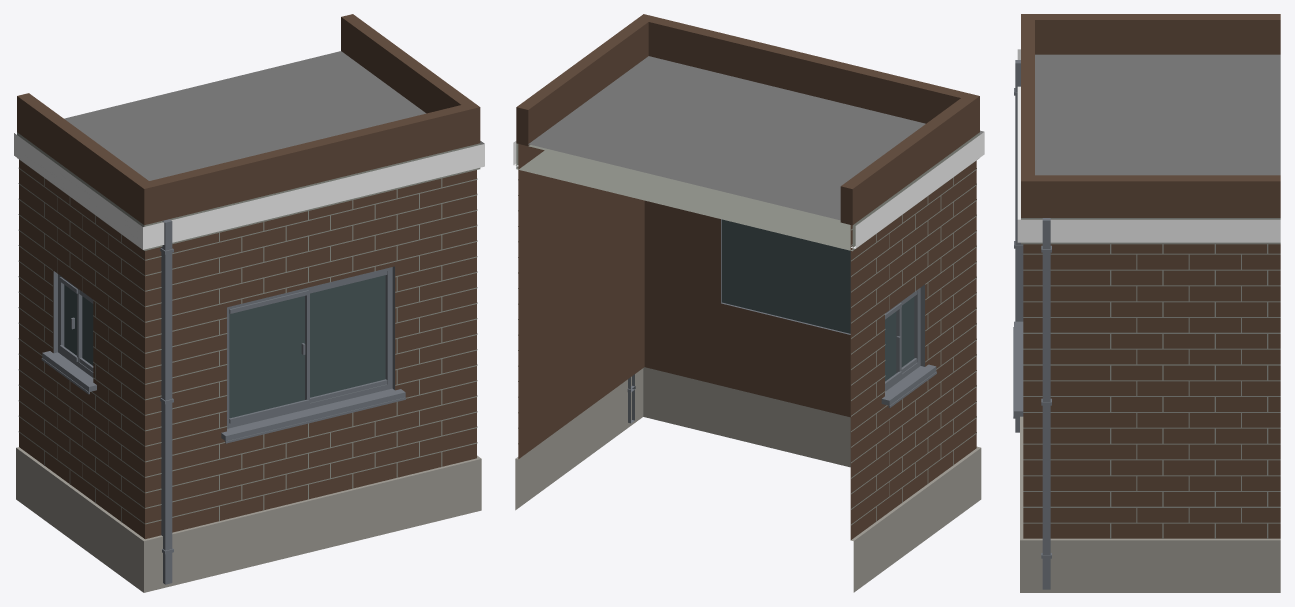
Rendered from base-stair3_close.fbx.
3 views of the same model, side by side, from view 1: azimuth 30°, elevation 25°; view 2: azimuth 150°, elevation 25°; view 3: azimuth 270°, elevation 25° (orthographic).
Parts seen in each view (by area): view 1: a2000s3/800/base-stair_close; view 2: a2000s3/800/base-stair_close; view 3: a2000s3/800/base-stair_close.
Boxes of the visible parts, x1,y1,x2,y2 form: a2000s3/800/base-stair_close: (14, 14, 484, 592); a2000s3/800/base-stair_close: (513, 14, 984, 592); a2000s3/800/base-stair_close: (1013, 14, 1280, 592).
Bounding box in the file's own units: 3.53 × 3.9 × 2.29.
